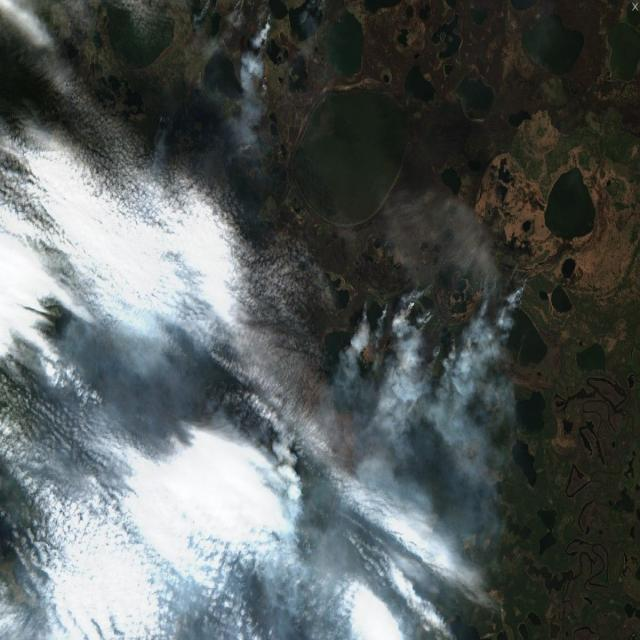fire: (364, 269, 439, 343), (478, 258, 544, 312), (253, 8, 283, 36)
